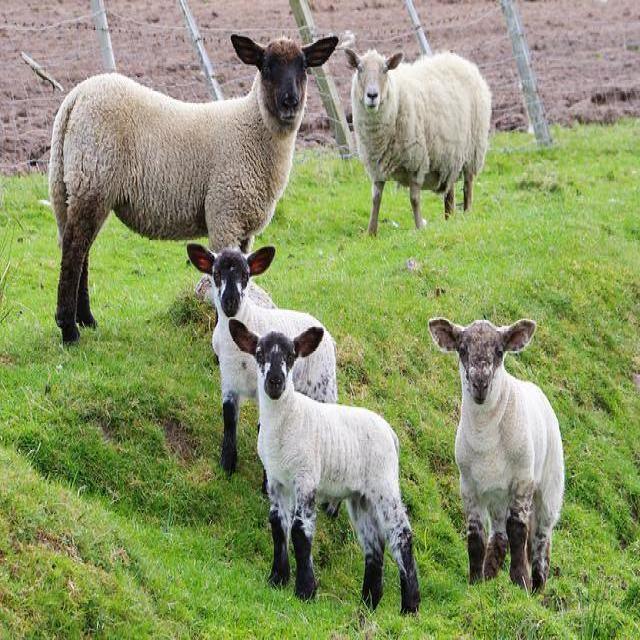Sheep: (49, 34, 339, 350), (225, 317, 425, 620), (188, 245, 340, 516), (426, 318, 567, 602), (346, 50, 494, 237)
